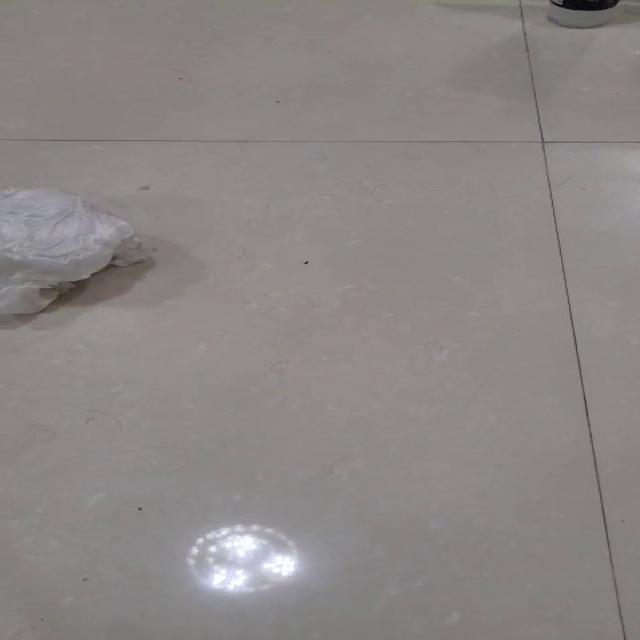plastic: (0, 186, 146, 315)
